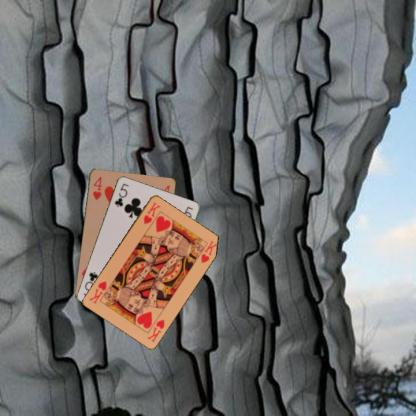4h: (90, 174, 103, 201)
5c: (112, 181, 130, 208)
Kh: (144, 317, 166, 343), (141, 200, 162, 226)
